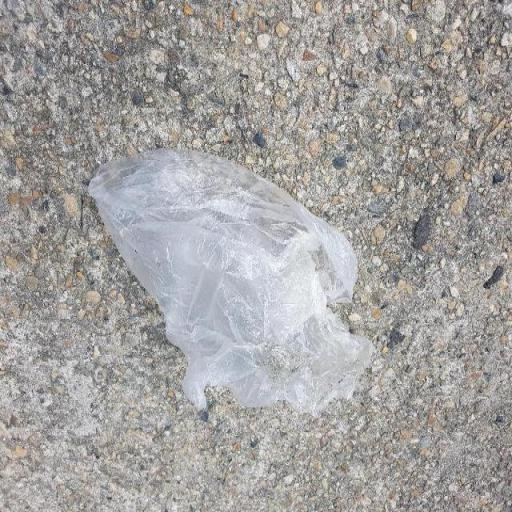plastic-bag: (89, 144, 375, 420)
